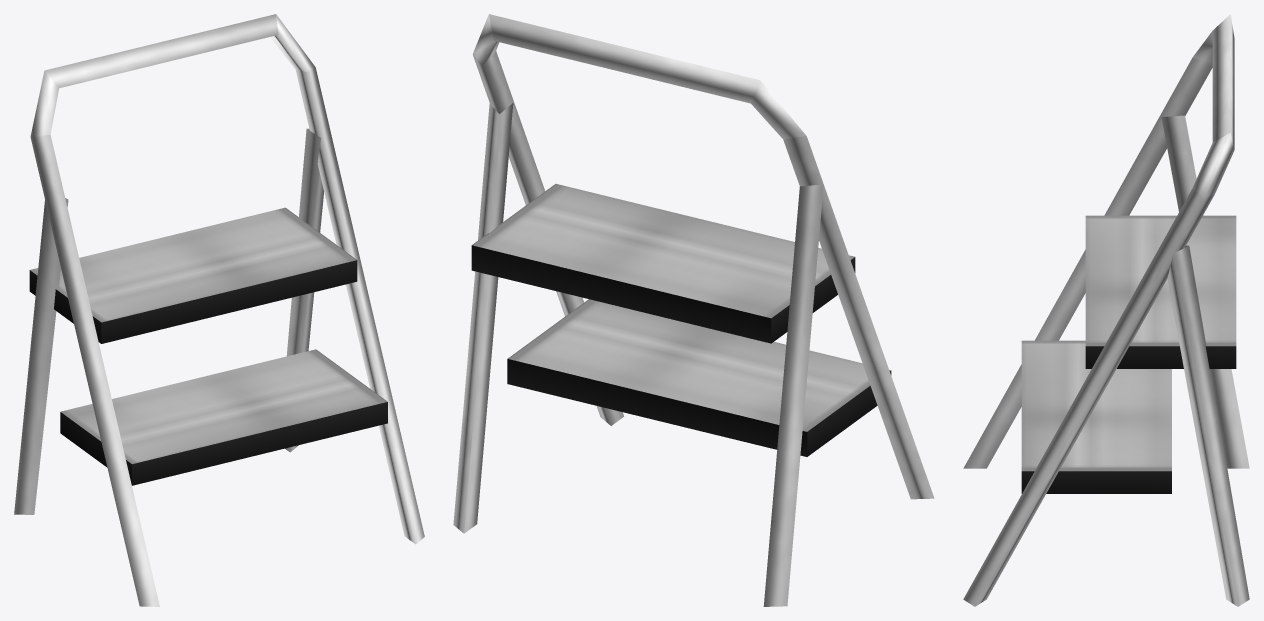
File: StepStool.fbx
3 renders of one model, left to right at view 1: azimuth 30°, elevation 25°; view 2: azimuth 150°, elevation 25°; view 3: azimuth 270°, elevation 25°, orthographic. The views are drawn at different scales.
Parts seen in each view (by area): view 1: Maya_File_Assets:TexturedAssetsCurrent:QuentonAssets02:StepS; view 2: Maya_File_Assets:TexturedAssetsCurrent:QuentonAssets02:StepS; view 3: Maya_File_Assets:TexturedAssetsCurrent:QuentonAssets02:StepS.
Part boxes in pixels (x1,y1,x2,y2): Maya_File_Assets:TexturedAssetsCurrent:QuentonAssets02:StepS: [14, 14, 424, 606]; Maya_File_Assets:TexturedAssetsCurrent:QuentonAssets02:StepS: [453, 14, 934, 606]; Maya_File_Assets:TexturedAssetsCurrent:QuentonAssets02:StepS: [963, 14, 1249, 606].
Size of the model in its own units: 0.5874 by 0.8661 by 0.488.
